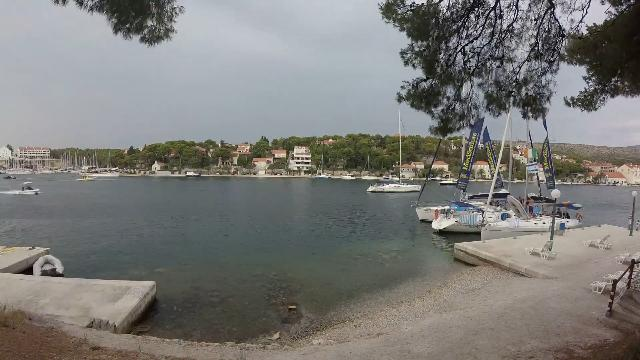Sailboat: (361, 175, 425, 194)
speedboat: (14, 180, 46, 198), (70, 172, 100, 184)
